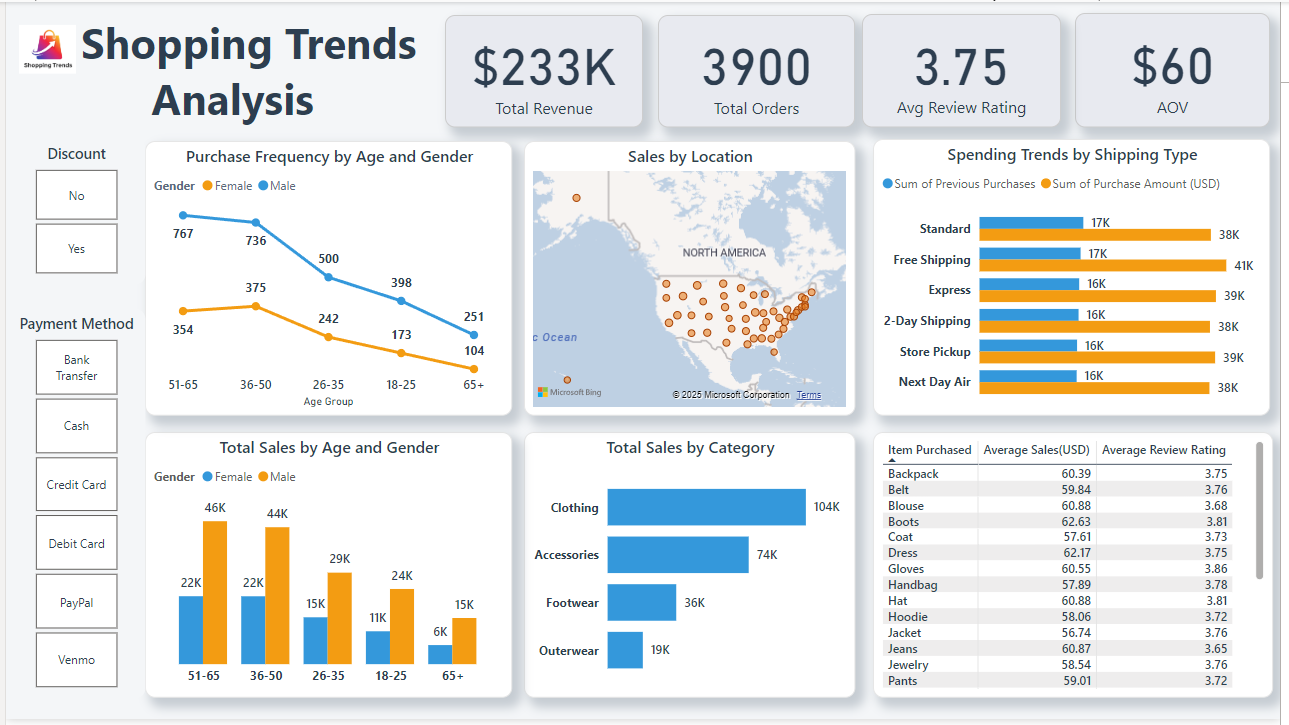

The dashboard page shown, as its layout file describes it:
{"tool":"powerbi","page":{"name":"Page 1","canvas":[1280,720],"ordinal":0},"visuals":[{"type":"card","fields":{"Values":["_measure.Total Revenue"]},"box":[441.1,13.1,198.9,112.5],"z":0},{"type":"card","fields":{"Values":["_measure.Total Orders"]},"box":[655.1,13.1,197.9,112.5],"z":1000},{"type":"card","fields":{"Values":["_measure.AOV"]},"box":[1074,11.1,195.9,114.5],"z":2000},{"type":"card","fields":{"Values":["_measure.Avg Review Rating"]},"box":[860,12.1,199.9,113.5],"z":3000},{"type":"clusteredBarChart","title":"Total Sales by Category","fields":{"Category":["shopping_trends.Category"],"Y":["Sum(shopping_trends.Purchase Amount (USD))"]},"box":[520.4,432,332.6,267.3],"z":4000},{"type":"image","box":[7.8,0,70,95.3],"z":5000},{"type":"tableEx","fields":{"Values":["shopping_trends.Item Purchased","Avg(shopping_trends.Purchase Amount (USD))","Avg(shopping_trends.Review Rating)"]},"box":[871.1,432,401.9,267.3],"z":6000},{"type":"clusteredColumnChart","title":"Total Sales  by Age and Gender","fields":{"Category":["shopping_trends.Age Group"],"Series":["shopping_trends.Gender"],"Y":["Sum(shopping_trends.Purchase Amount (USD))"]},"box":[139.7,432,368.7,267.3],"z":7000},{"type":"lineChart","title":"Purchase Frequency by Age and Gender","fields":{"Series":["shopping_trends.Gender"],"Category":["shopping_trends.Age Group"],"Y":["CountNonNull(shopping_trends.Frequency of Purchases)"]},"box":[139.7,139.7,368.7,276.3],"z":8000},{"type":"clusteredBarChart","title":"Spending Trends by Shipping Type","fields":{"Category":["shopping_trends.Shipping Type"],"Y":["Sum(shopping_trends.Previous Purchases)","Sum(shopping_trends.Purchase Amount (USD))"]},"box":[871.1,137.6,398.9,278.3],"z":9000},{"type":"slicer","title":"Payment Method","fields":{"Values":["shopping_trends.Preferred Payment Method"]},"box":[0,308.4,139.7,390.8],"z":10000},{"type":"slicer","title":"Discount","fields":{"Values":["shopping_trends.Discount Applied"]},"box":[0,137.6,139.7,145.7],"z":11000},{"type":"textbox","box":[70,5.8,360.9,124.5],"z":12000},{"type":"map","title":"Sales by Location","fields":{"Category":["shopping_trends.Location"],"Series":["shopping_trends.Location"],"Size":["Sum(shopping_trends.Purchase Amount (USD))"]},"box":[520.4,139.7,332.6,276.3],"z":13000}]}

Visuals, with their boxes in screenshot pixels (x1, y1, x2, y2), scaled from the page's 1280x720 canvas onto the 1289x725 screenshot:
card - _measure.Total Revenue: (left=444, top=13, right=644, bottom=126)
card - _measure.Total Orders: (left=660, top=13, right=859, bottom=126)
card - _measure.AOV: (left=1082, top=11, right=1279, bottom=126)
card - _measure.Avg Review Rating: (left=866, top=12, right=1067, bottom=126)
"Total Sales by Category" clusteredBarChart: (left=524, top=435, right=859, bottom=704)
image: (left=8, top=0, right=78, bottom=96)
tableEx - shopping_trends.Item Purchased x Avg(shopping_trends.Purchase Amount (USD)): (left=877, top=435, right=1282, bottom=704)
"Total Sales  by Age and Gender" clusteredColumnChart: (left=141, top=435, right=512, bottom=704)
"Purchase Frequency by Age and Gender" lineChart: (left=141, top=141, right=512, bottom=419)
"Spending Trends by Shipping Type" clusteredBarChart: (left=877, top=139, right=1279, bottom=419)
"Payment Method" slicer: (left=0, top=311, right=141, bottom=704)
"Discount" slicer: (left=0, top=139, right=141, bottom=285)
textbox: (left=70, top=6, right=434, bottom=131)
"Sales by Location" map: (left=524, top=141, right=859, bottom=419)
